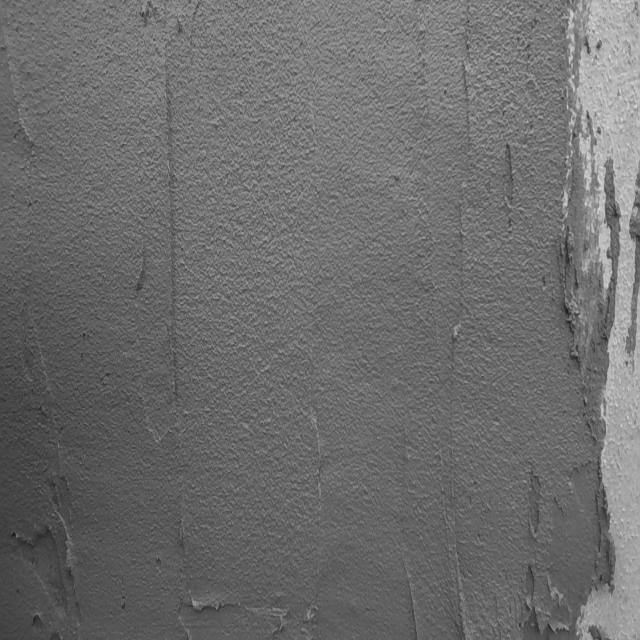trowels marks: (152, 35, 196, 595), (437, 323, 471, 640)
